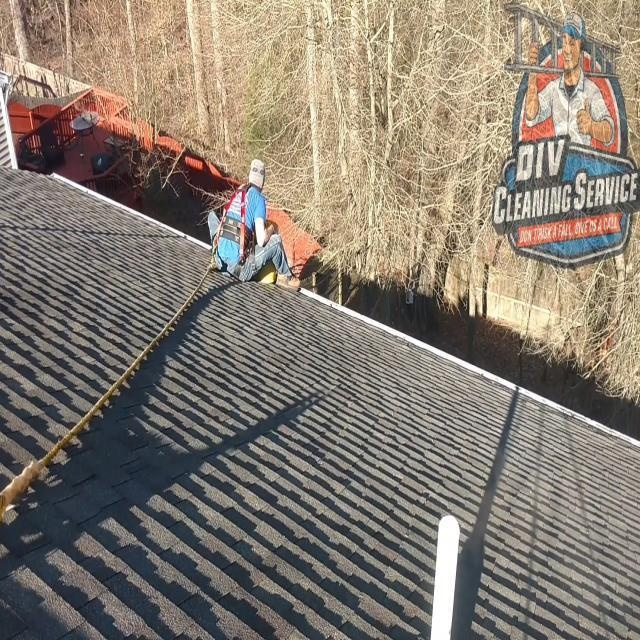Arnes_seguridad: (214, 178, 260, 284)
